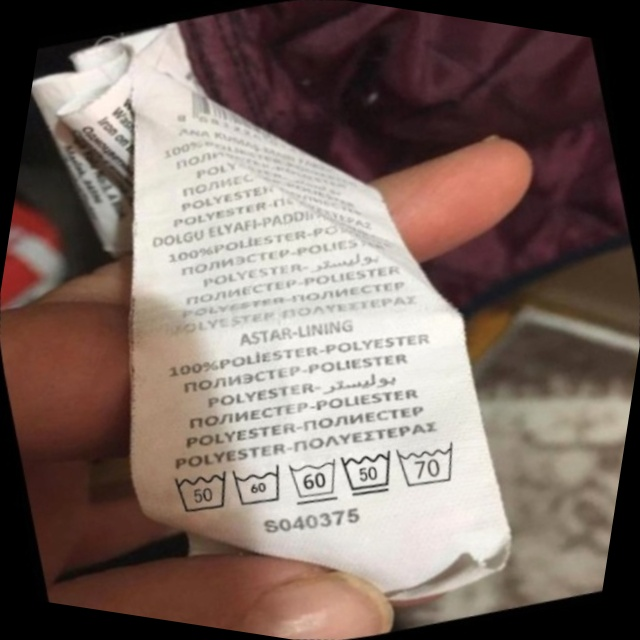50C: (157, 449, 246, 532), (328, 433, 411, 512)
60C: (276, 442, 356, 518), (220, 448, 299, 523)
70C: (386, 425, 475, 503)
